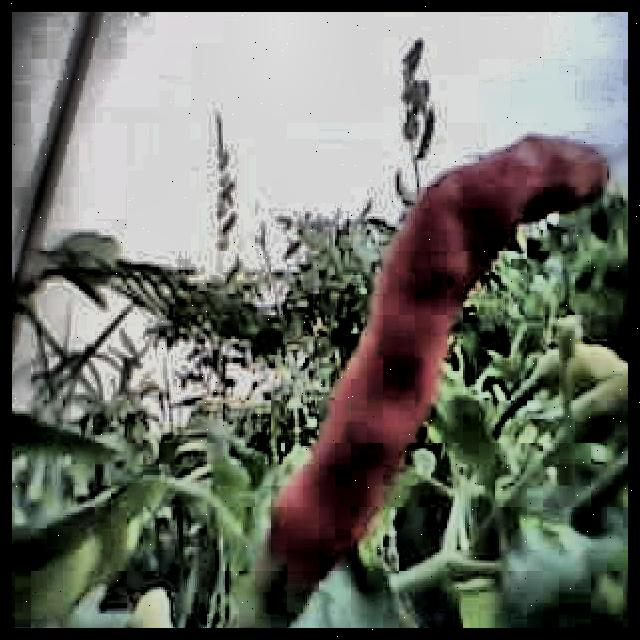Cabai: (270, 135, 606, 569)
